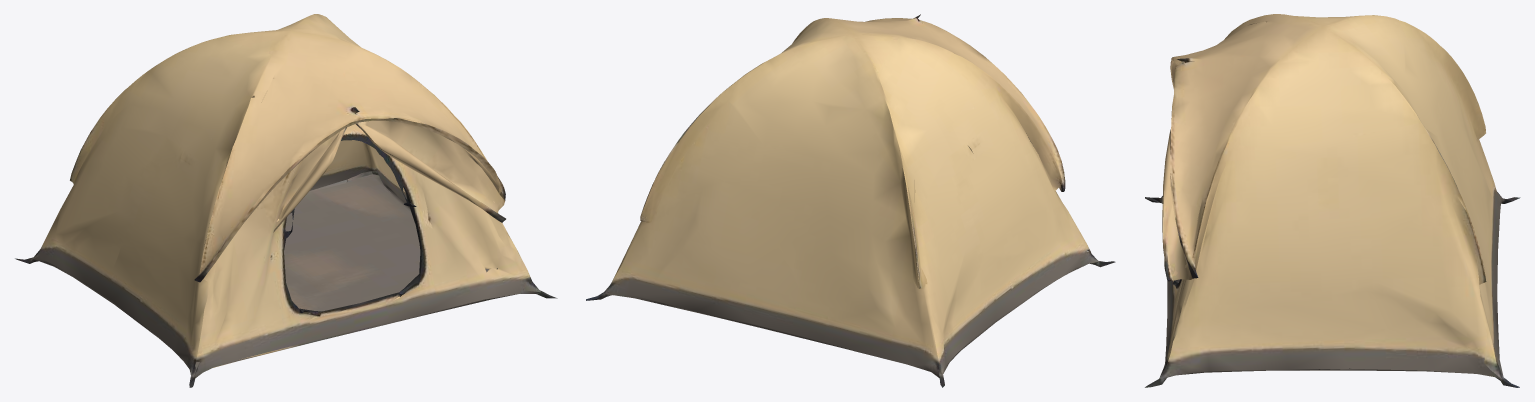
The model's file is tent.glb.
3 views of the same model, side by side, from view 1: azimuth 30°, elevation 25°; view 2: azimuth 150°, elevation 25°; view 3: azimuth 270°, elevation 25° (orthographic). The views are drawn at different scales.
Visible parts, largest first — view 1: tent; view 2: tent; view 3: tent.
Part boxes in pixels (box(x1,y1,x2,y2)): tent: box(15, 14, 557, 387); tent: box(586, 14, 1115, 387); tent: box(1145, 14, 1520, 387).
Size of the model in its own units: 2.6 by 1.7 by 2.16.
Materials: 1 (1 with a texture image).
